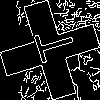T: (25, 25, 77, 67)
